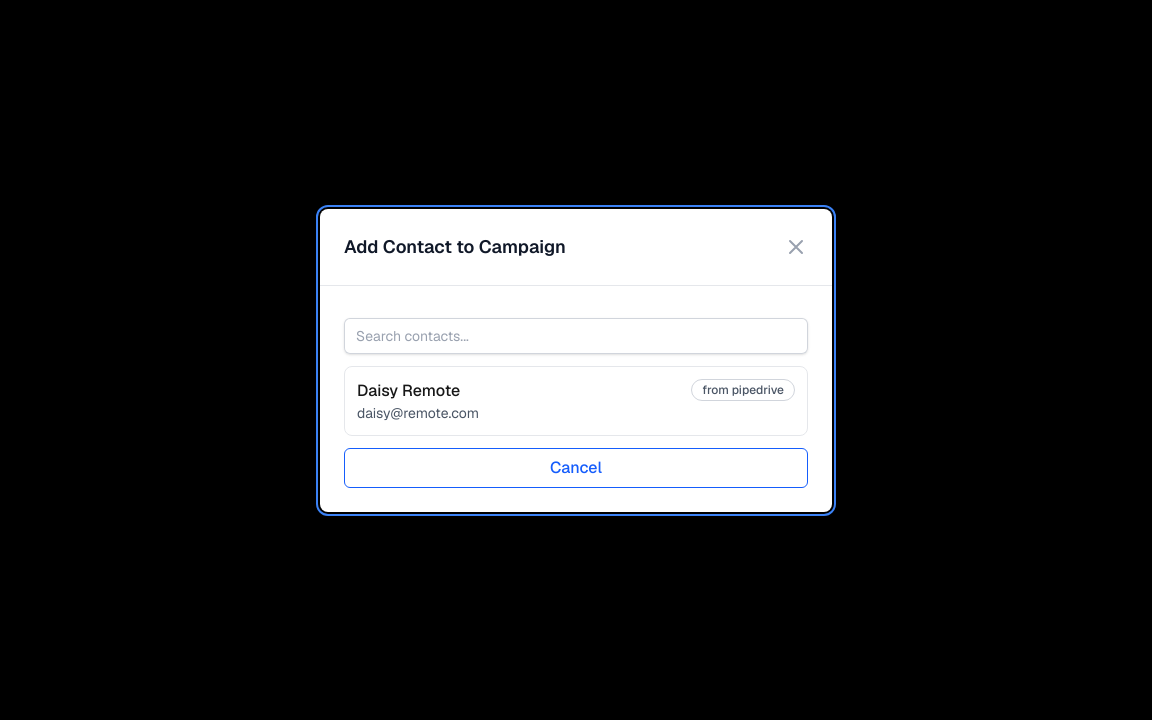
it: AddContactModal - Unified Search › shows unified results: local first, then pipedrive, deduplicated
In the field with placeholder "Search contacts...": (576, 336) [344,318,808,354], type "charlie"
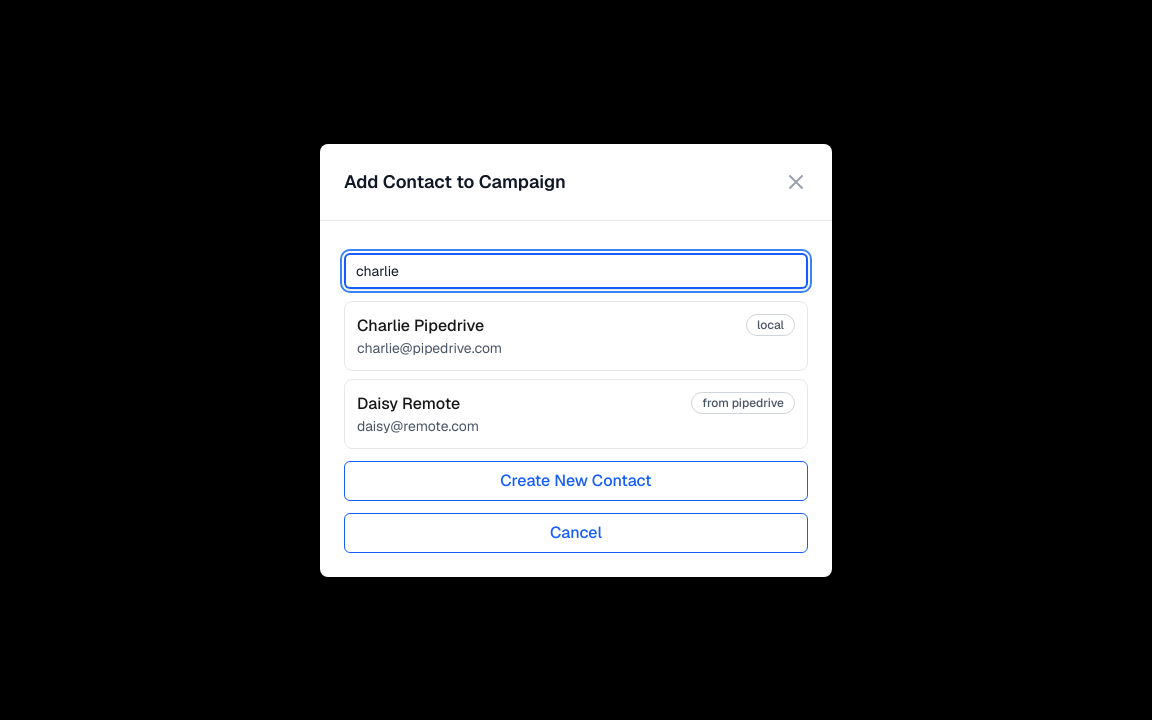
Check: the text "Daisy Remote" is shown, box [357,392,460,414]
Check: the text "Charlie Pipedrive" is shown once, box [357,314,484,336]
Check: the text "local" is shown, box [746,314,795,336]
